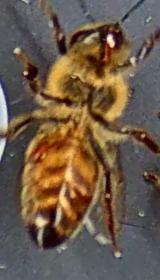varroa_mite: (22, 136, 52, 164)
